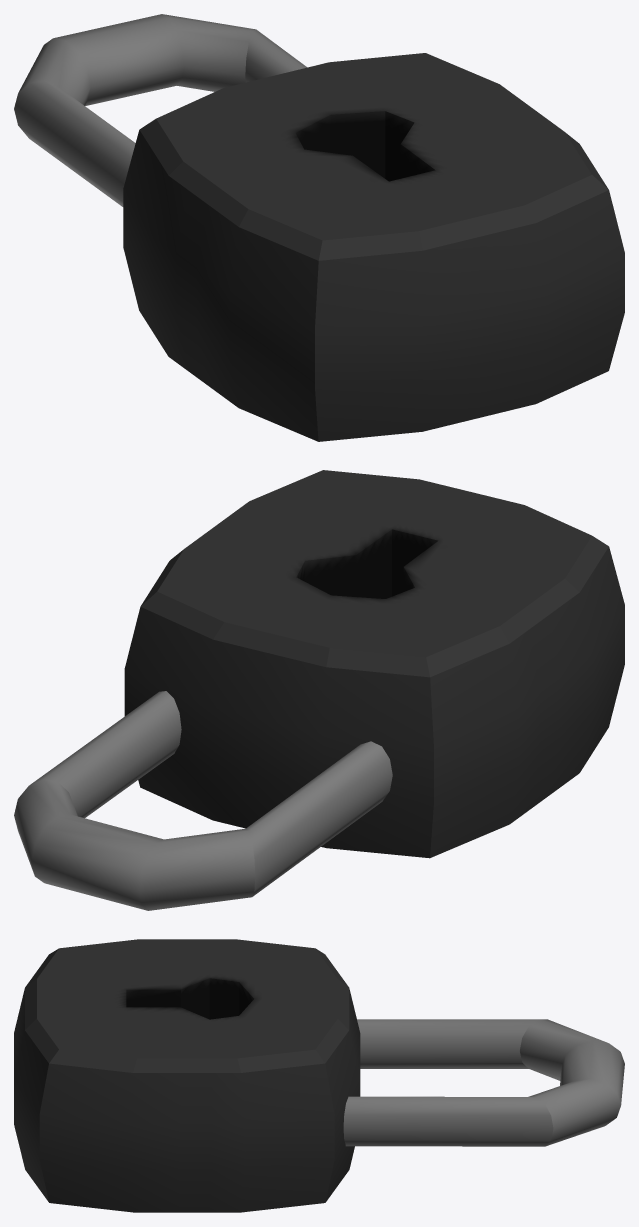
The model's file is Candado.fbx.
3 renders of one model, top to bottom at view 1: azimuth 30°, elevation 25°; view 2: azimuth 150°, elevation 25°; view 3: azimuth 270°, elevation 25°, orthographic. The views are drawn at different scales.
Parts seen in each view (by area): view 1: Candado, CerraduraCandado; view 2: Candado, CerraduraCandado; view 3: Candado, CerraduraCandado.
Part boxes in pixels (<box>): Candado: <box>123,53,624,441</box>; CerraduraCandado: <box>14,14,307,206</box>; Candado: <box>124,470,624,858</box>; CerraduraCandado: <box>14,691,392,910</box>; Candado: <box>14,939,360,1212</box>; CerraduraCandado: <box>343,1019,624,1146</box>.
Bounding box in the file's own units: 3.16 × 1.69 × 5.97.
